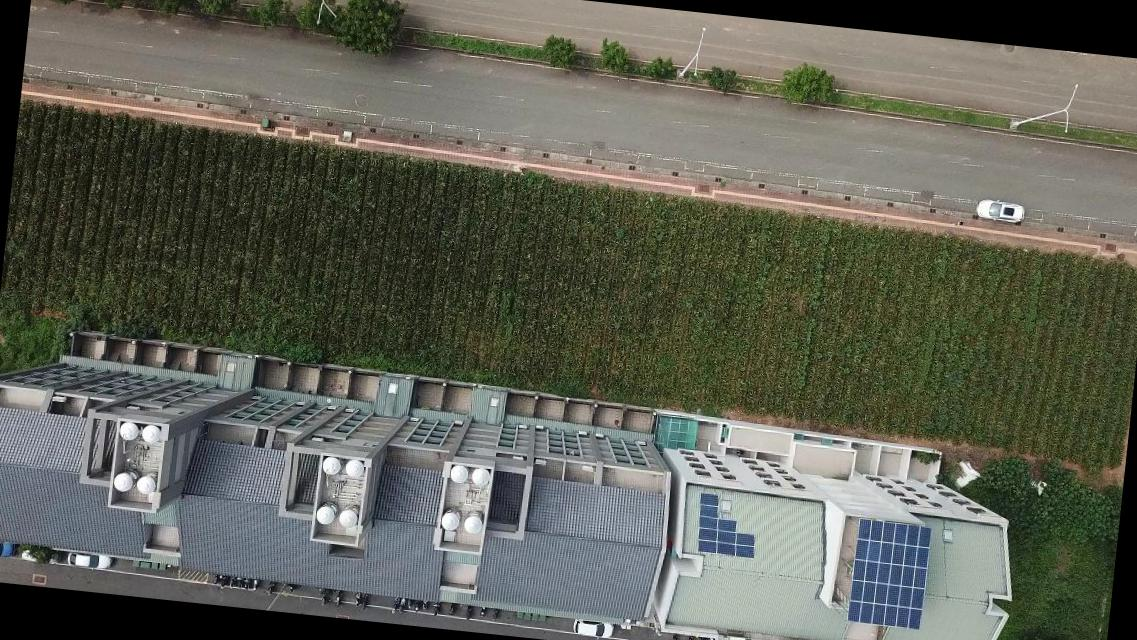vehicle: (972, 196, 1027, 224), (66, 548, 113, 570), (572, 618, 614, 639), (0, 537, 18, 560)
